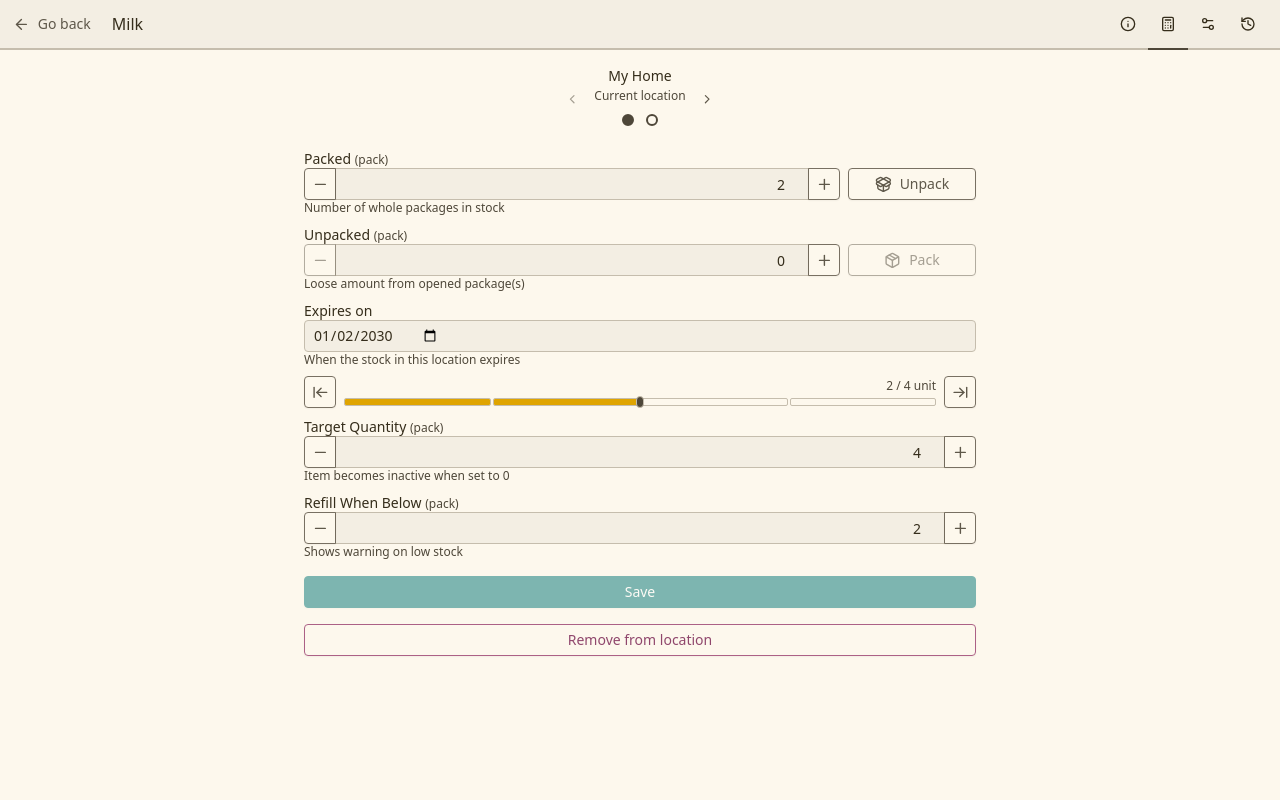
it: Item stock tab › shows the viewed location’s own expiry date
Expected: the number field labelled "Packed (pack)" is shown, [335, 168, 809, 200]
// When the user pages to that location
Click the tab named "Office": click(652, 120) [640, 108, 664, 132]
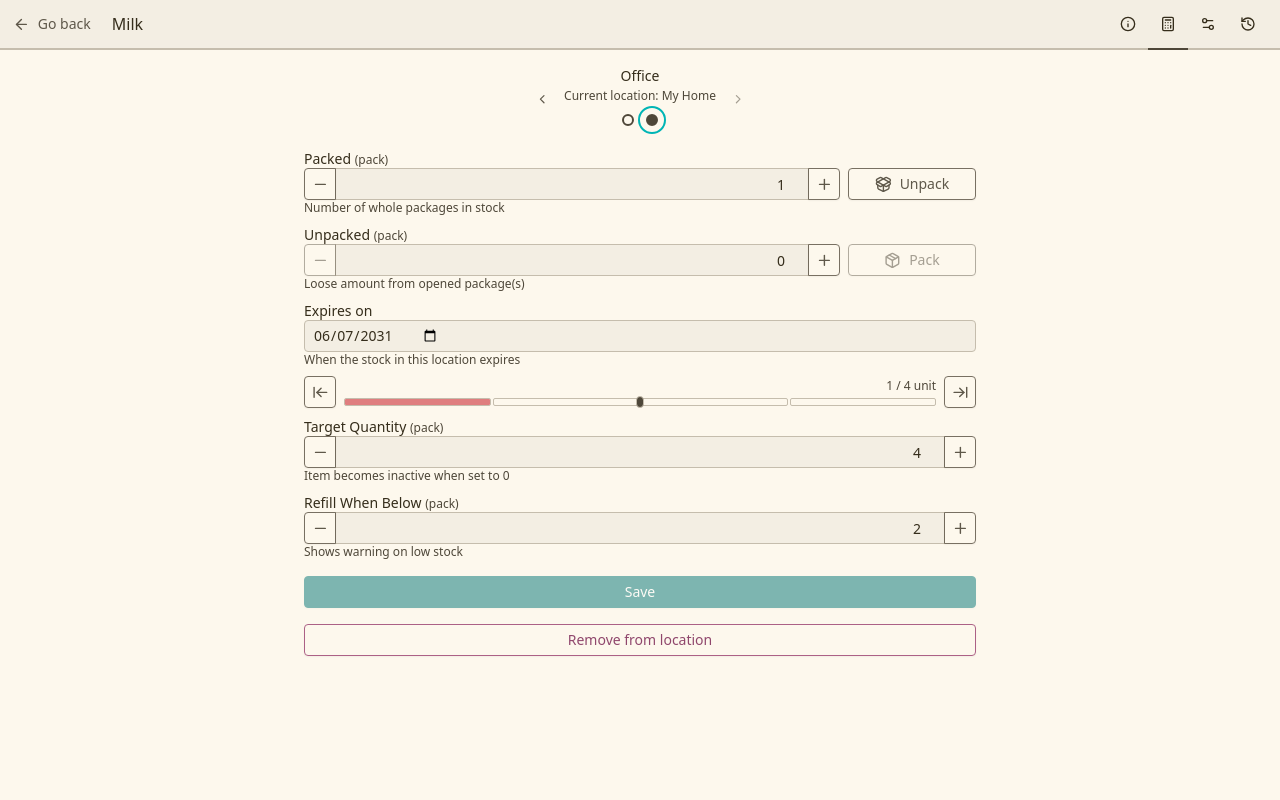
Expected: the date field labelled "Expires on" holds "2031-06-07", [304, 320, 976, 352]
